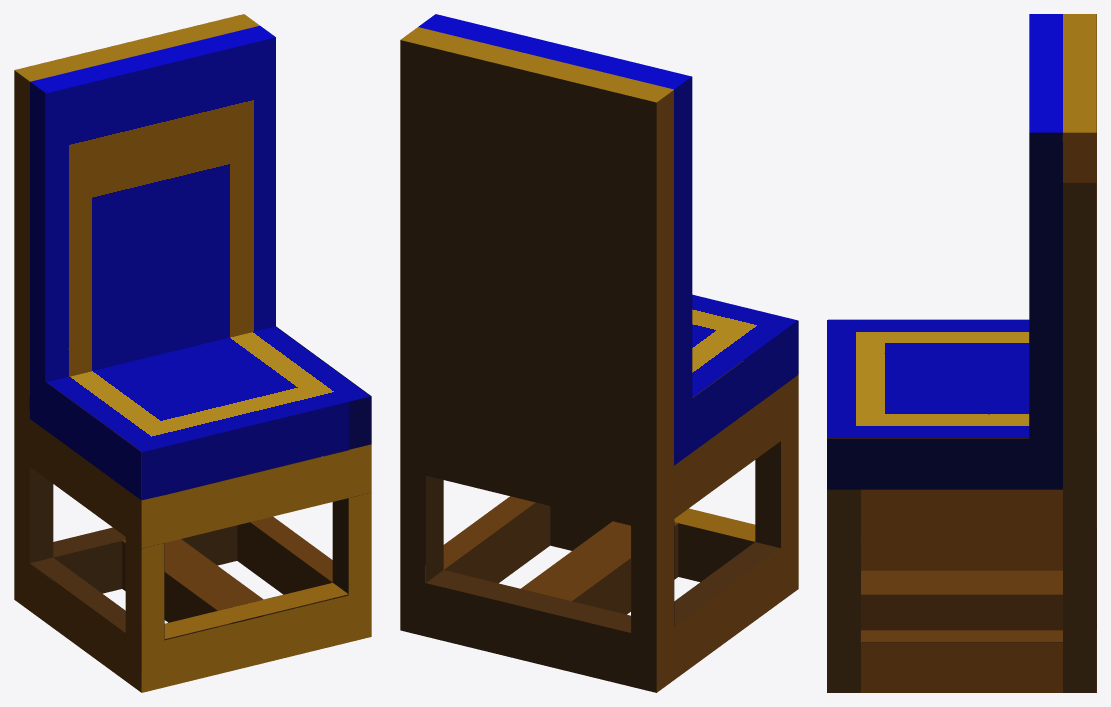
Rendered from chair_873x10.obj.
3 renders of one model, left to right at view 1: azimuth 30°, elevation 25°; view 2: azimuth 150°, elevation 25°; view 3: azimuth 270°, elevation 25°, orthographic. The views are drawn at different scales.
Visible parts, largest first — view 1: Chair; view 2: Chair; view 3: Chair.
Part boxes in pixels (x1,y1,x2,y2): Chair: (14, 14, 371, 692); Chair: (400, 14, 798, 692); Chair: (827, 14, 1096, 692).
Bounding box in the file's own units: 1.25 × 2.75 × 1.2.
